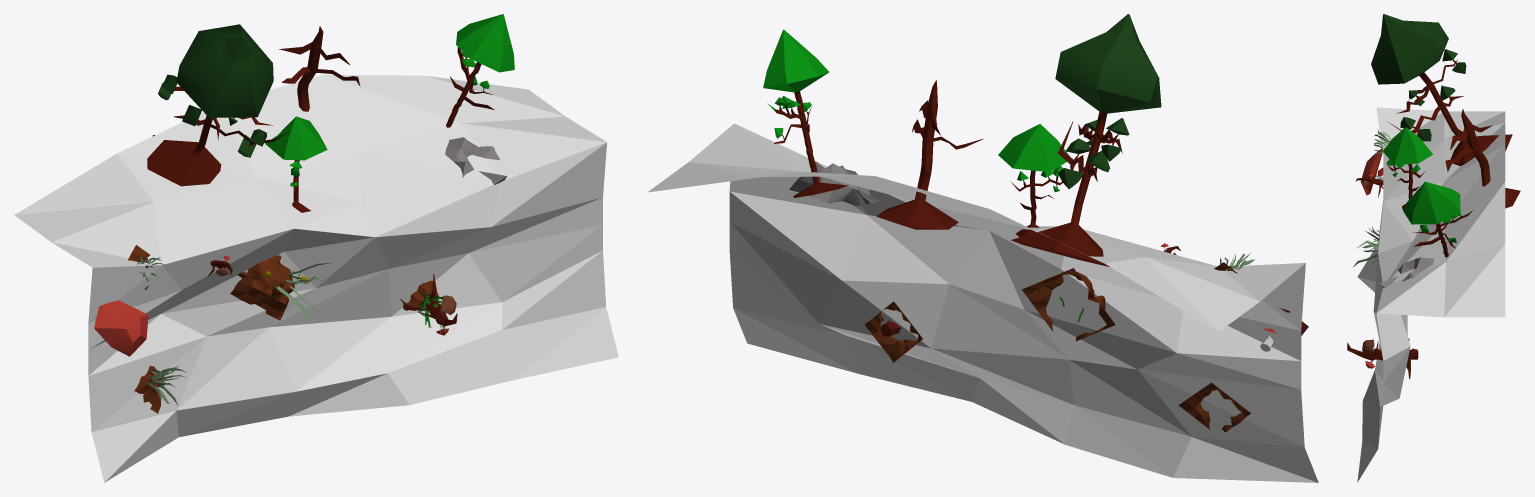
File: Jungle_wall_2.FBX
3 renders of one model, left to right at view 1: azimuth 30°, elevation 25°; view 2: azimuth 150°, elevation 25°; view 3: azimuth 270°, elevation 25°, orthographic. The views are drawn at different scales.
Visible parts, largest first — view 1: Wall_008, ForestLevelDarkGreenTree1Asset001, ForestLevelLightGreenTree4Asset001, ForestLevelTurqoiseGrass5Asset001, ForestLevelRedMushroom2Asset, ForestLevelLightGreenTree2Asset001, ForestLevelTreeNoLeaves1Asset001, ForestLevelStones3Asset, ForestLevelsTurqoiseGrass1Asset001, ForestLevelLightGreenGrass3Asset002, ForestLevelLog3Asset003; view 2: Wall_008, ForestLevelDarkGreenTree1Asset001, ForestLevelLightGreenTree4Asset001, ForestLevelTreeNoLeaves1Asset001, ForestLevelLightGreenTree2Asset001, ForestLevelTurqoiseGrass5Asset001, ForestLevelStones3Asset, ForestLevelLightGreenGrass3Asset002, ForestLevelsTurqoiseGrass1Asset001; view 3: Wall_008, ForestLevelDarkGreenTree1Asset001, ForestLevelLightGreenTree4Asset001, ForestLevelLightGreenTree2Asset001, ForestLevelTreeNoLeaves1Asset001, ForestLevelStones3Asset, ForestLevelRedMushroom2Asset, ForestLevelLog3Asset003, ForestLevelTurqoiseGrass1Asset001, ForestLevelsTurqoiseGrass1Asset001.
Part boxes in pixels (x1=…): Wall_008: x1=14, y1=74, x2=618, y2=482; ForestLevelDarkGreenTree1Asset001: x1=147, y1=24, x2=289, y2=186; ForestLevelLightGreenTree4Asset001: x1=446, y1=14, x2=514, y2=127; ForestLevelTurqoiseGrass5Asset001: x1=230, y1=255, x2=331, y2=322; ForestLevelRedMushroom2Asset: x1=94, y1=300, x2=148, y2=356; ForestLevelLightGreenTree2Asset001: x1=265, y1=116, x2=327, y2=212; ForestLevelTreeNoLeaves1Asset001: x1=279, y1=26, x2=360, y2=111; ForestLevelStones3Asset: x1=445, y1=137, x2=507, y2=184; ForestLevelsTurqoiseGrass1Asset001: x1=134, y1=365, x2=186, y2=413; ForestLevelLightGreenGrass3Asset002: x1=403, y1=280, x2=452, y2=328; ForestLevelLog3Asset003: x1=400, y1=273, x2=457, y2=325; Wall_008: x1=648, y1=123, x2=1318, y2=482; ForestLevelDarkGreenTree1Asset001: x1=1011, y1=14, x2=1161, y2=266; ForestLevelLightGreenTree4Asset001: x1=763, y1=29, x2=848, y2=197; ForestLevelTreeNoLeaves1Asset001: x1=876, y1=80, x2=982, y2=229; ForestLevelLightGreenTree2Asset001: x1=998, y1=124, x2=1069, y2=237; ForestLevelTurqoiseGrass5Asset001: x1=1022, y1=268, x2=1115, y2=341; ForestLevelStones3Asset: x1=789, y1=161, x2=881, y2=206; ForestLevelLightGreenGrass3Asset002: x1=865, y1=301, x2=922, y2=362; ForestLevelsTurqoiseGrass1Asset001: x1=1178, y1=382, x2=1250, y2=432; Wall_008: x1=1357, y1=107, x2=1505, y2=482; ForestLevelDarkGreenTree1Asset001: x1=1371, y1=14, x2=1512, y2=166; ForestLevelLightGreenTree4Asset001: x1=1403, y1=181, x2=1472, y2=257; ForestLevelLightGreenTree2Asset001: x1=1383, y1=127, x2=1432, y2=210; ForestLevelTreeNoLeaves1Asset001: x1=1445, y1=109, x2=1520, y2=208; ForestLevelStones3Asset: x1=1380, y1=257, x2=1433, y2=287; ForestLevelRedMushroom2Asset: x1=1361, y1=148, x2=1383, y2=195; ForestLevelLog3Asset003: x1=1347, y1=340, x2=1418, y2=360; ForestLevelTurqoiseGrass1Asset001: x1=1372, y1=129, x2=1391, y2=156; ForestLevelsTurqoiseGrass1Asset001: x1=1362, y1=226, x2=1380, y2=270.
Bounding box in the file's own units: 4005 × 2943 × 1425.
